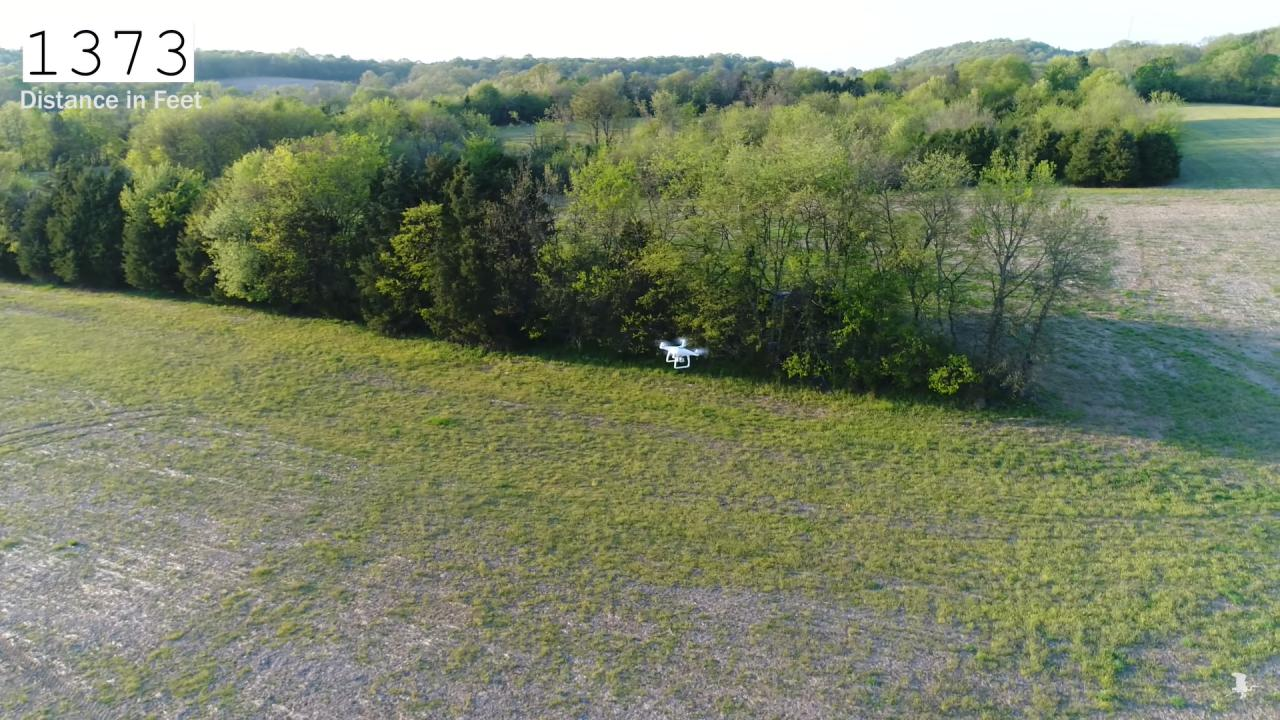Drone: (647, 327, 716, 378)
